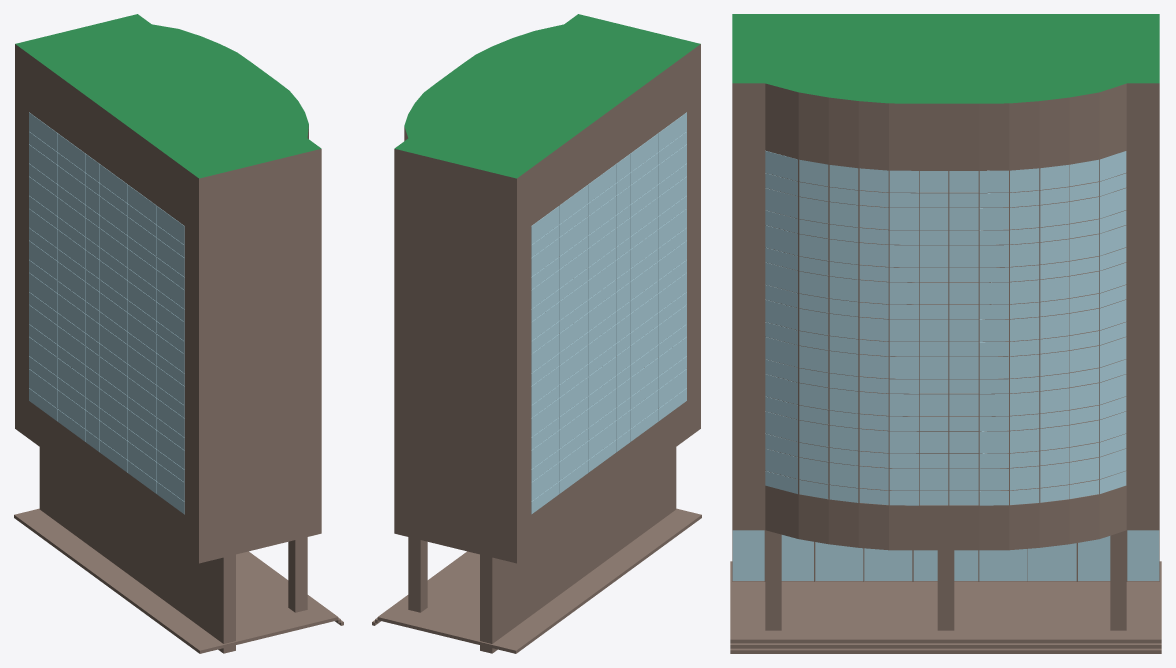
File: 5 between 6 building_2.glb
The picture shows the model from 3 angles, left to right: view 1: azimuth 30°, elevation 25°; view 2: azimuth 150°, elevation 25°; view 3: azimuth 270°, elevation 25°; orthographic projection. The views are drawn at different scales.
Parts seen in each view (by area): view 1: Cube.004, No.5 between No.6 conect.001, stairs, Cube.002, back-windows-4, back-windows-9, back-windows-2, back-windows-3, back-windows-7, back-windows-11, back-windows-5, back-windows-6 (+12 smaller); view 2: Cube.002, No.5 between No.6 conect.001, stairs, Cube.004, back-windows-3, back-windows-8, back-windows-1, back-windows-5, back-windows-9, back-windows-10, back-windows-2, back-windows-6 (+12 smaller); view 3: No.5 between No.6 conect.001, stairs, Cube.002, Cube.004, right-windows-12, right-windows-5, right-windows-8, right-windows-10, right-windows-11, right-windows-6, right-windows-4, right-windows-9 (+17 smaller).
Boxes of the visible parts, x1,y1,x2,y2 form: Cube.004: (185,138,321,563); No.5 between No.6 conect.001: (29,24,308,552); stairs: (14,508,343,653); Cube.002: (15,14,151,438); back-windows-4: (71,143,85,441); back-windows-9: (142,195,156,493); back-windows-2: (43,122,57,420); back-windows-3: (57,133,71,431); back-windows-7: (113,174,127,472); back-windows-11: (170,216,184,514); back-windows-5: (85,154,99,451); back-windows-6: (99,164,113,462); Cube.002: (394,138,530,563); No.5 between No.6 conect.001: (404,24,686,552); stairs: (372,508,701,653); Cube.004: (564,14,700,438); back-windows-3: (559,195,573,493); back-windows-8: (630,143,644,441); back-windows-1: (531,216,545,514); back-windows-5: (588,174,602,472); back-windows-9: (644,133,658,431); back-windows-10: (658,122,672,420); back-windows-2: (545,205,559,503); back-windows-6: (602,164,616,462); No.5 between No.6 conect.001: (765,14,1126,550); stairs: (730,561,1161,653); Cube.002: (1126,14,1159,530); Cube.004: (732,14,765,530); right-windows-12: (765,150,797,493); right-windows-5: (979,170,1008,505); right-windows-8: (889,170,918,505); right-windows-10: (829,165,858,502); right-windows-11: (799,159,828,499); right-windows-6: (949,171,978,505); right-windows-4: (1010,168,1039,504); right-windows-9: (859,168,888,504).
Size of the model in its own units: 51.86 by 150 by 105.
